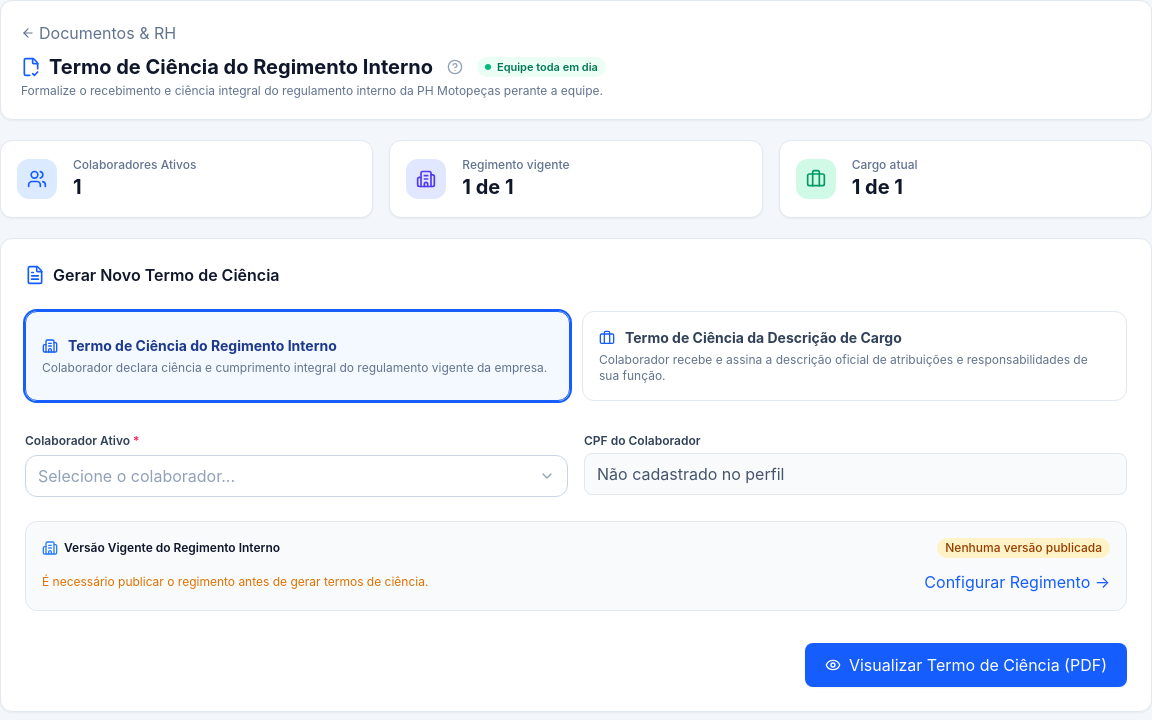
Test: AcknowledgmentDocumentPage › switches between regimento and cargo modes
What coordinates should you click on to do the following:
click the text "Termo de Ciência da Descrição de Cargo"
I would click on:
 (750, 338)
Its box is x1=599 y1=329 x2=902 y2=346.
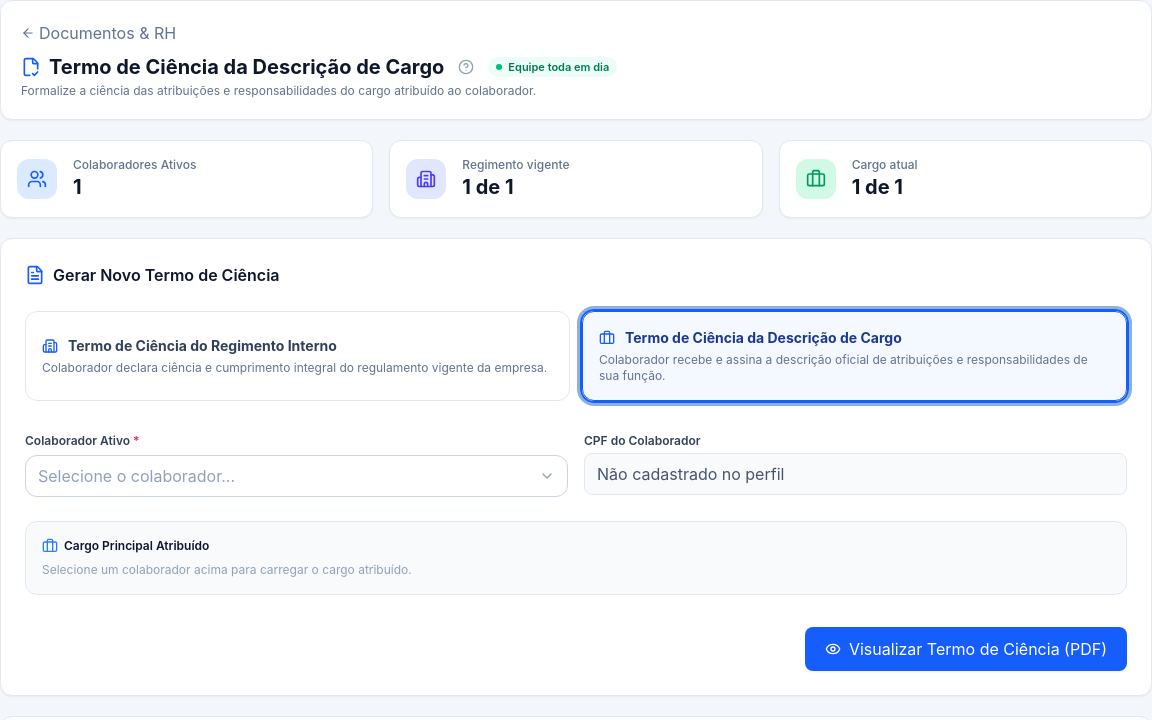
Expected: the text "Cargo Principal Atribuído" is shown, x1=42 y1=538 x2=209 y2=554
